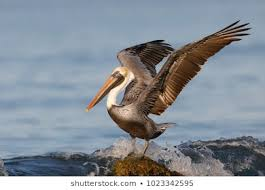pelican: (87, 19, 252, 148)
